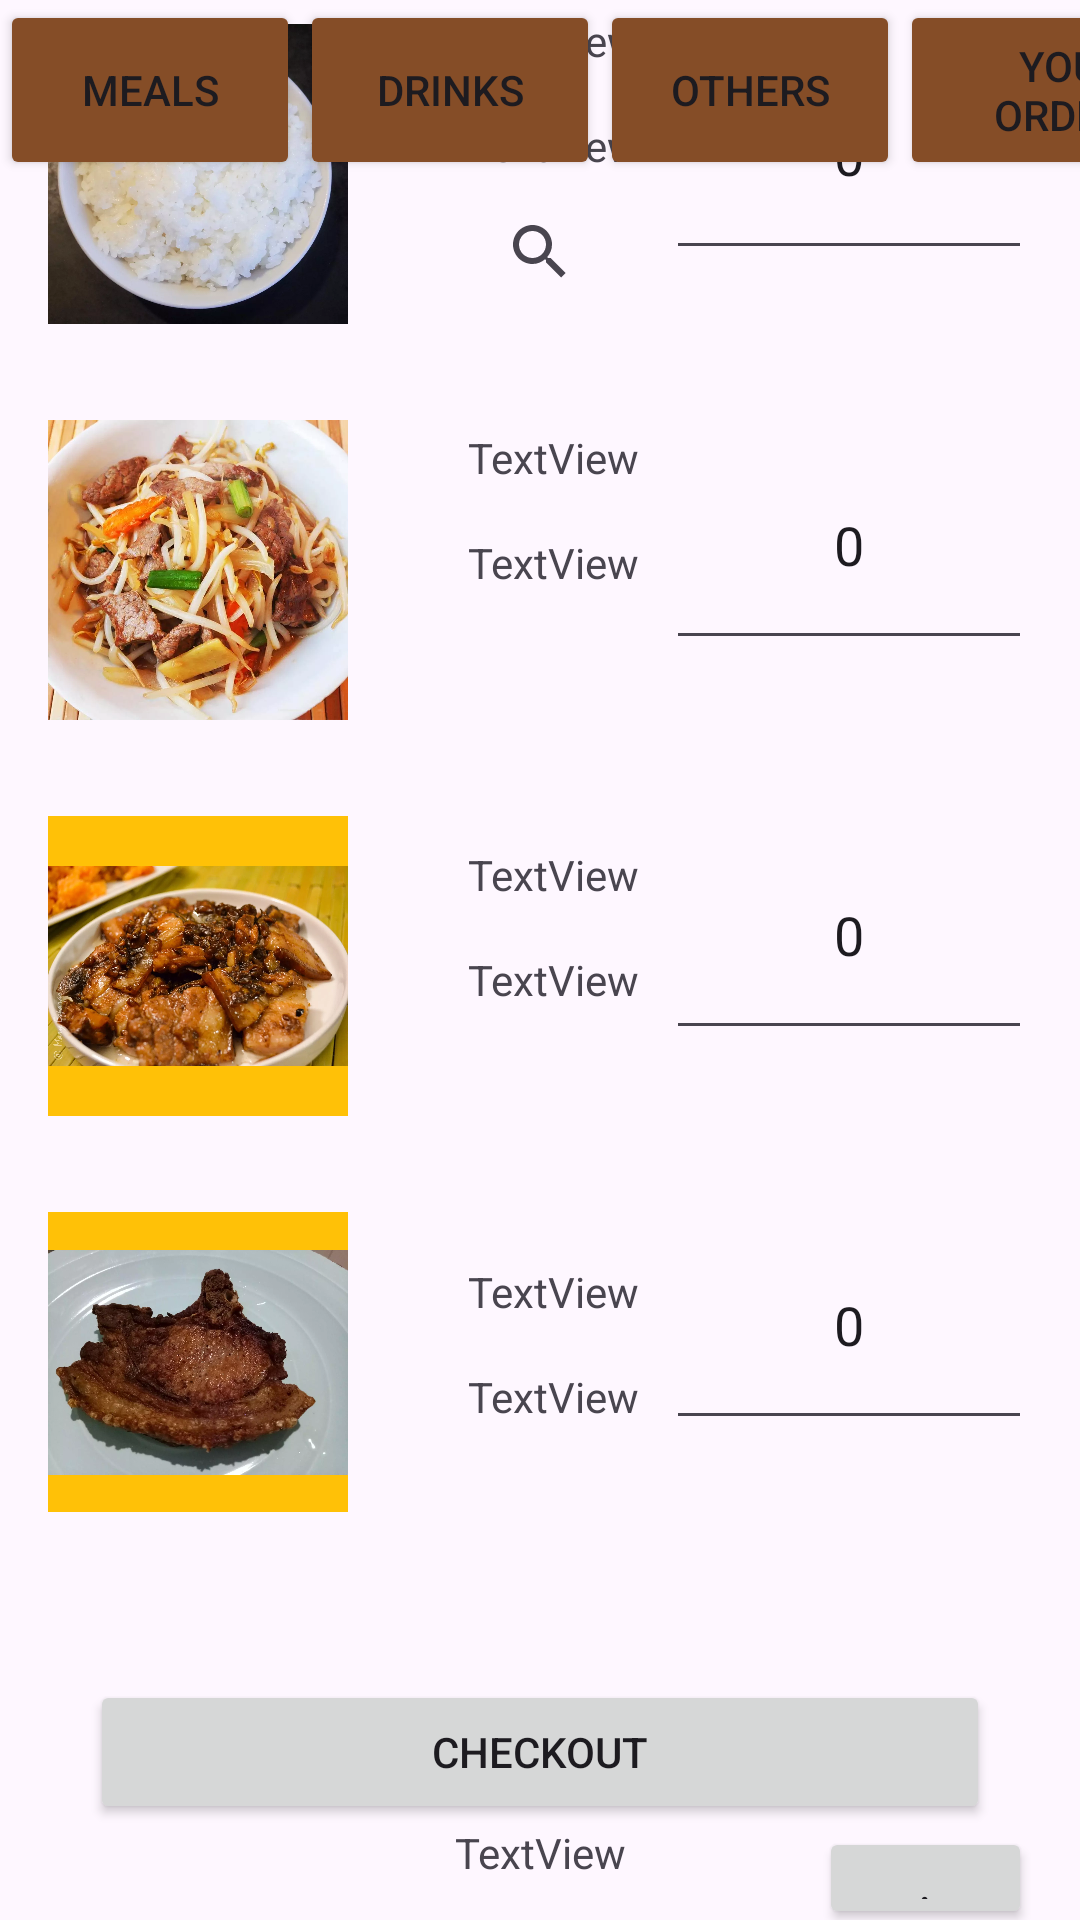

Point at icon controls on the screen. Image size 1080w x 1920h, points as (x,y).
adobo: (198,966)
chopsuey: (198,570)
porkchop: (198,1362)
